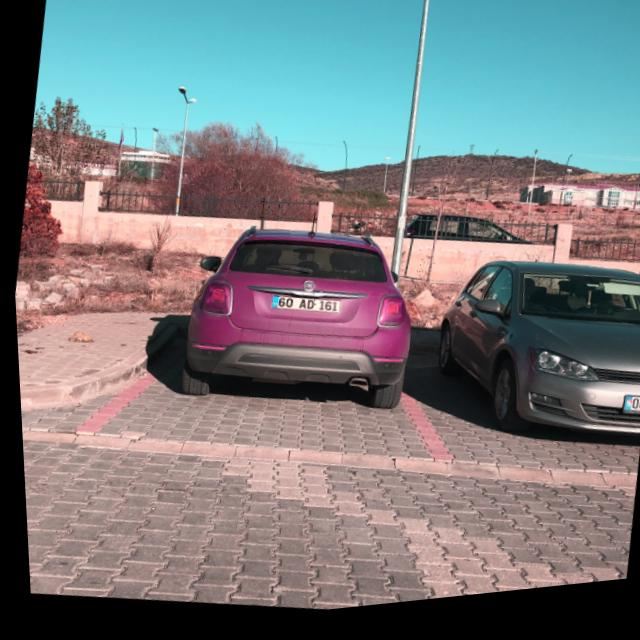license_plate: (268, 297, 338, 324)
